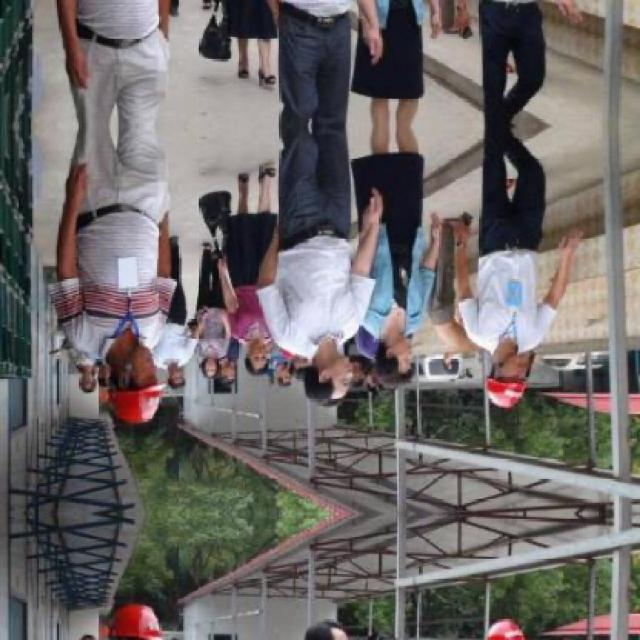con casco: (419, 302, 543, 399), (76, 315, 182, 420)
